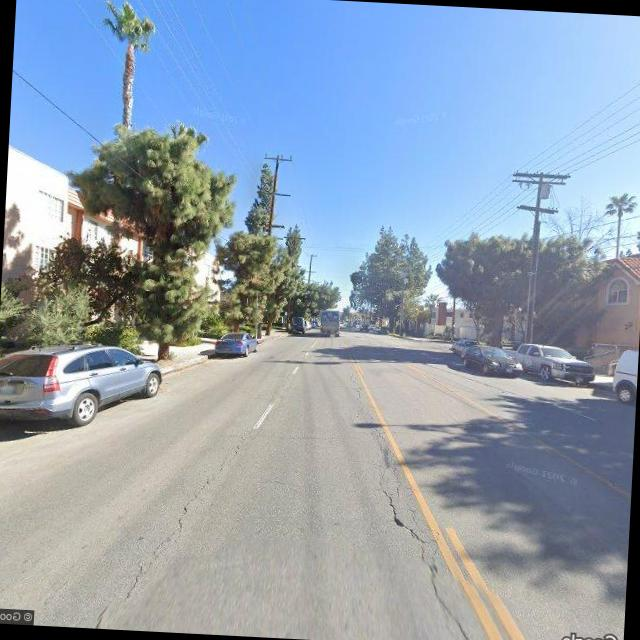crack: (98, 400, 266, 630), (343, 382, 490, 636)
